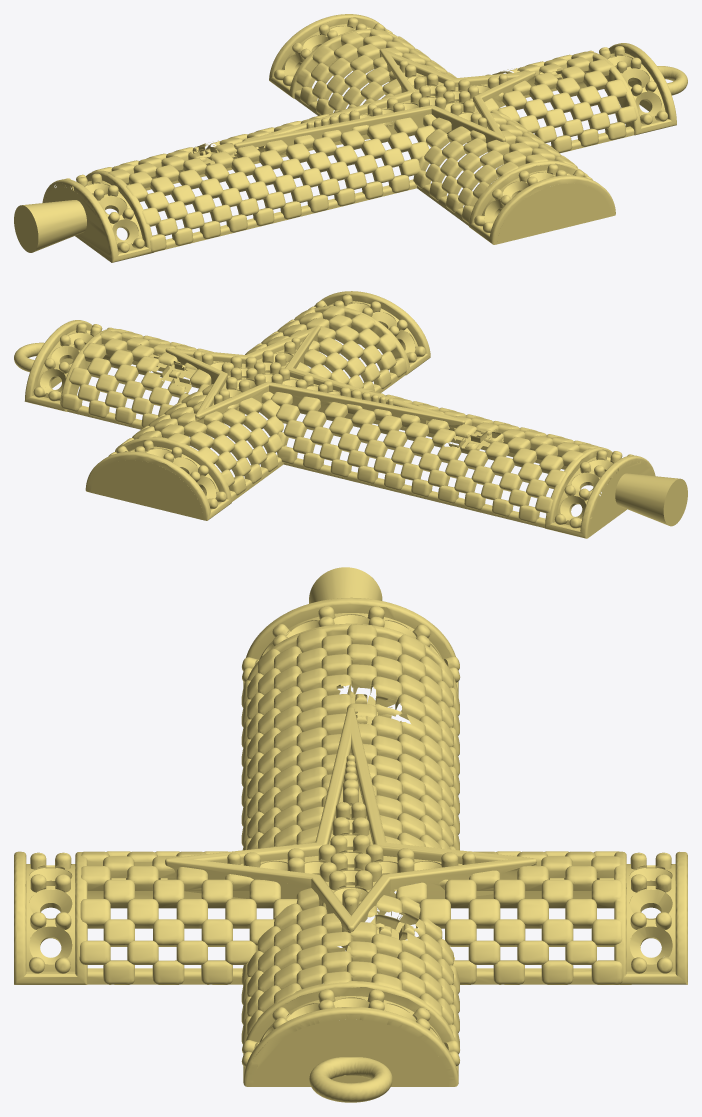
Rendered from arti.glb.
3 renders of one model, top to bottom at view 1: azimuth 30°, elevation 25°; view 2: azimuth 150°, elevation 25°; view 3: azimuth 270°, elevation 25°, orthographic. The views are drawn at different scales.
Parts seen in each view (by area): view 1: Renderer Node; view 2: Renderer Node; view 3: Renderer Node.
Boxes of the visible parts, left/top/right/bottom form: Renderer Node: left=14, top=14, right=687, bottom=262; Renderer Node: left=14, top=291, right=687, bottom=538; Renderer Node: left=14, top=567, right=687, bottom=1102.
Size of the model in its own units: 47.15 by 3.98 by 27.78.
